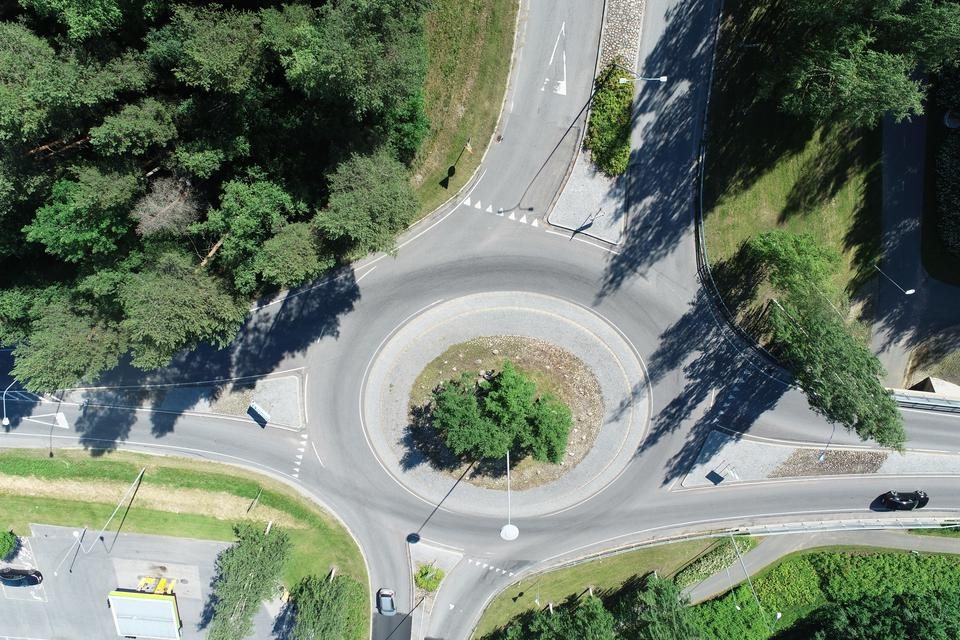roundabout: (222, 150, 736, 590)
